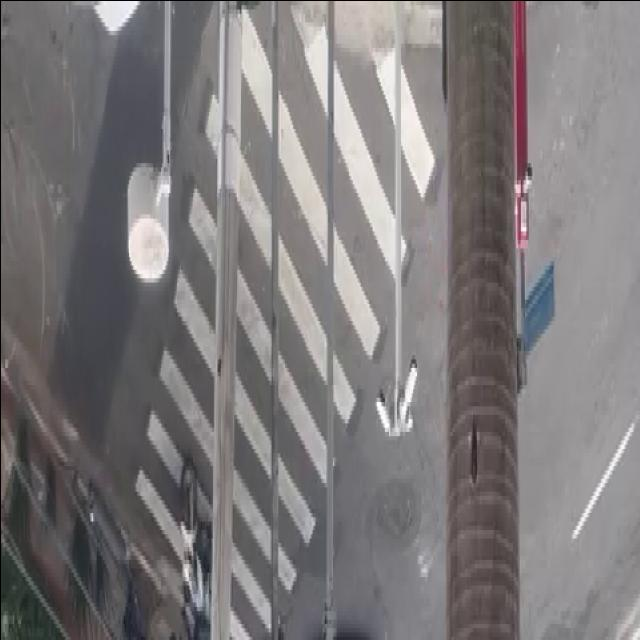motorbike: (162, 458, 244, 640)
